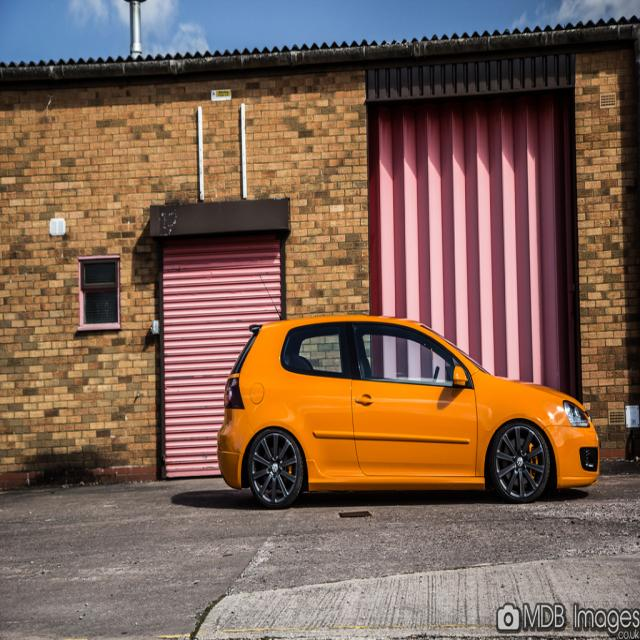car: (218, 320, 600, 502)
